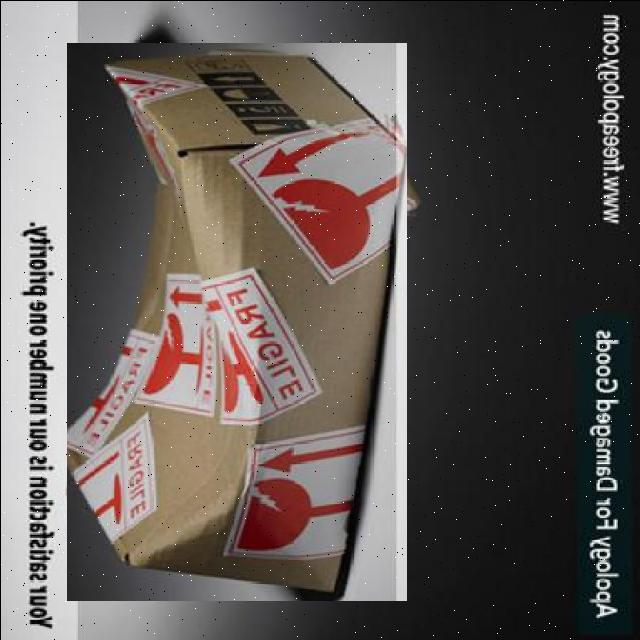defect: (66, 42, 406, 600)
